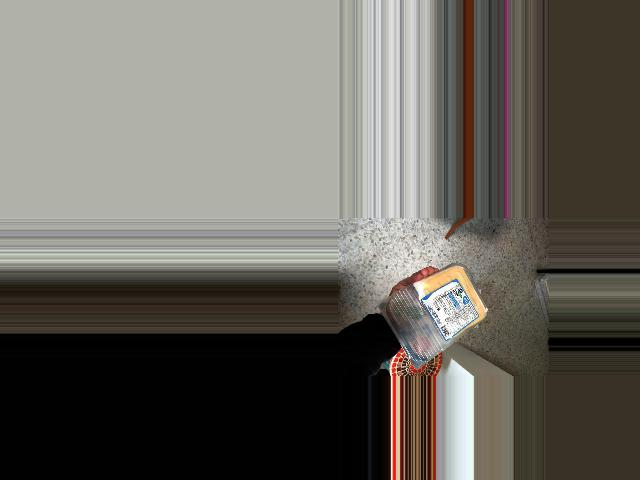cheese: (389, 270, 491, 359)
